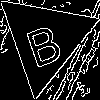B: (20, 14, 65, 69)
